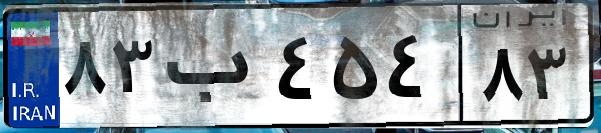3: (525, 38, 570, 115), (110, 28, 158, 98)
4: (270, 28, 330, 110), (385, 28, 445, 110)
5: (330, 28, 385, 110)
8: (57, 26, 110, 100), (475, 38, 525, 113)
ب: (158, 20, 270, 120)
